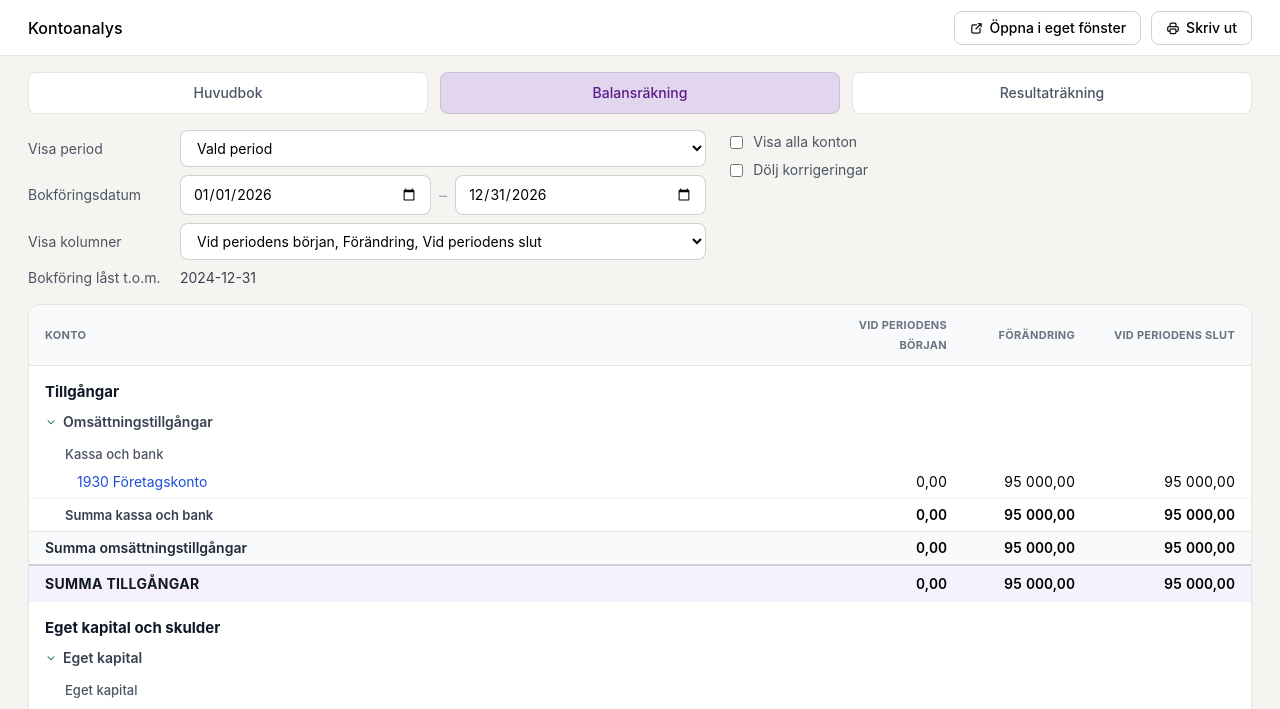
Kontoanalys – Balansräkning › grupp kan fällas ihop (döljer konton, behåller summa)
Check: the text "Tillgångar" is shown, box [29,366,1251,406]
Check: the button "1930 Företagskonto" is shown, box [77,472,208,492]
Click the button "Omsättningstillgångar".
click(129, 422)  # box [45,412,213,432]
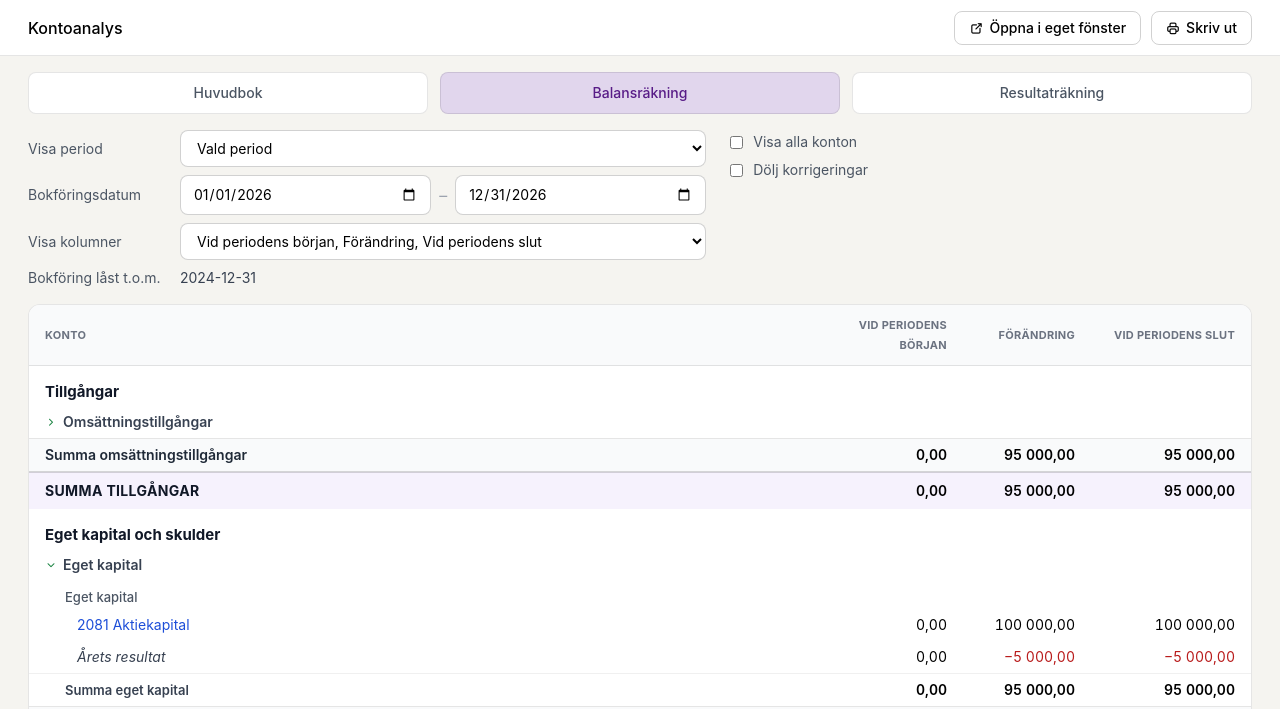
Check: the button "1930 Företagskonto" is gone
